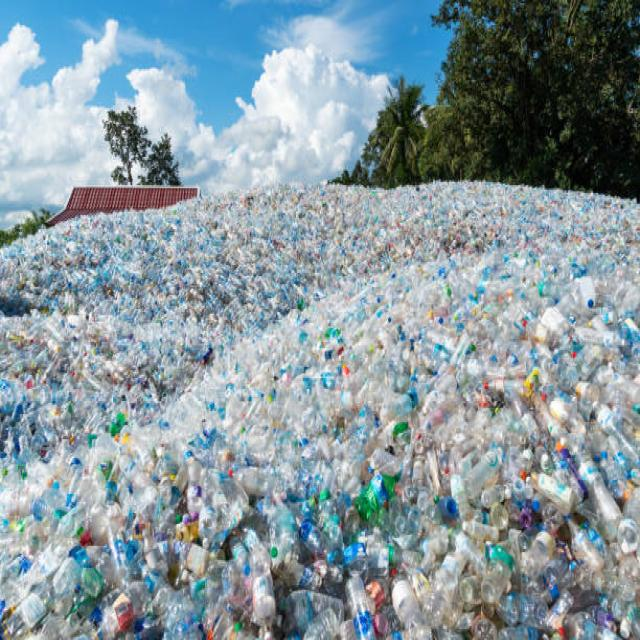plastic: (152, 222, 614, 570)
